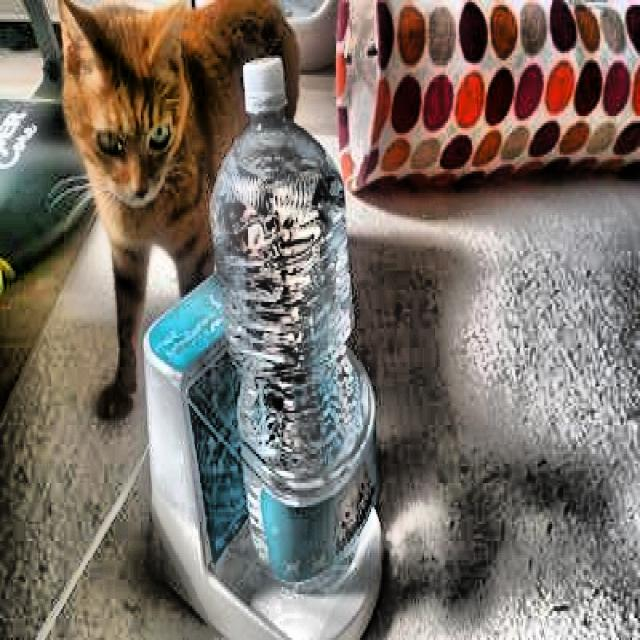Bottles: (204, 46, 392, 580)
